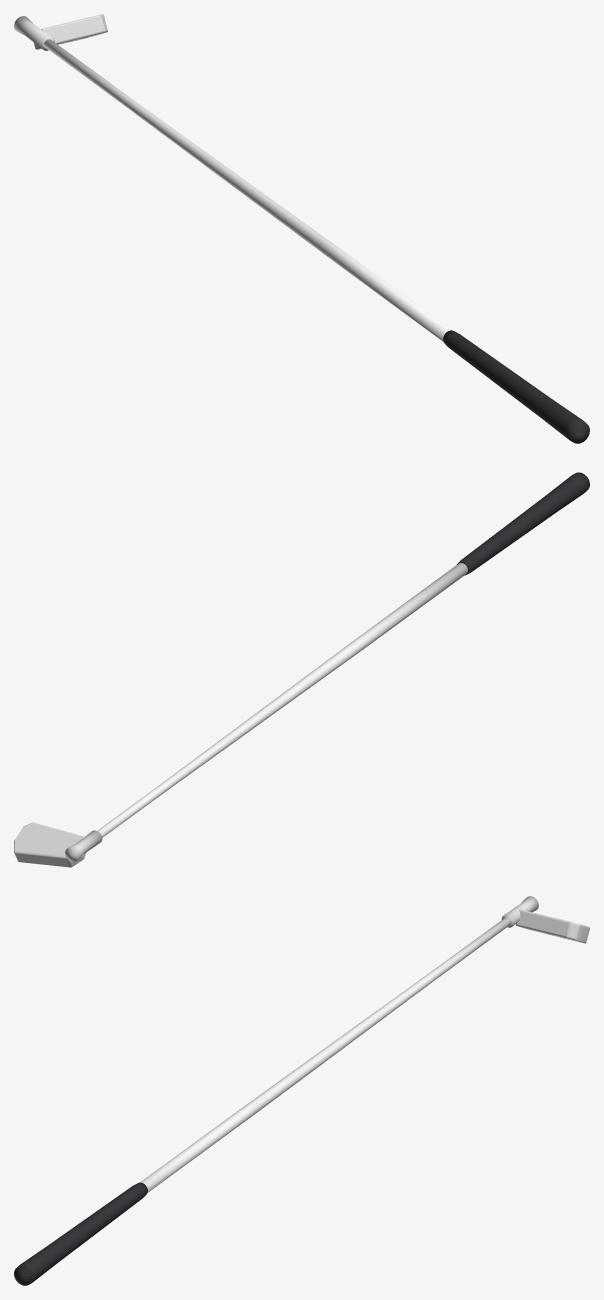
File: Weapon_GolfClub.fbx
3 views of the same model, one above another, from view 1: azimuth 30°, elevation 25°; view 2: azimuth 150°, elevation 25°; view 3: azimuth 330°, elevation 25° (orthographic). The views are drawn at different scales.
Parts seen in each view (by area): view 1: Weapon_GolfClub_Game; view 2: Weapon_GolfClub_Game; view 3: Weapon_GolfClub_Game.
Part boxes in pixels (bbox=[...]): Weapon_GolfClub_Game: bbox=[14, 14, 589, 443]; Weapon_GolfClub_Game: bbox=[14, 472, 589, 867]; Weapon_GolfClub_Game: bbox=[14, 896, 589, 1285].
Size of the model in its own units: 0.099 by 0.0437 by 1.2.
